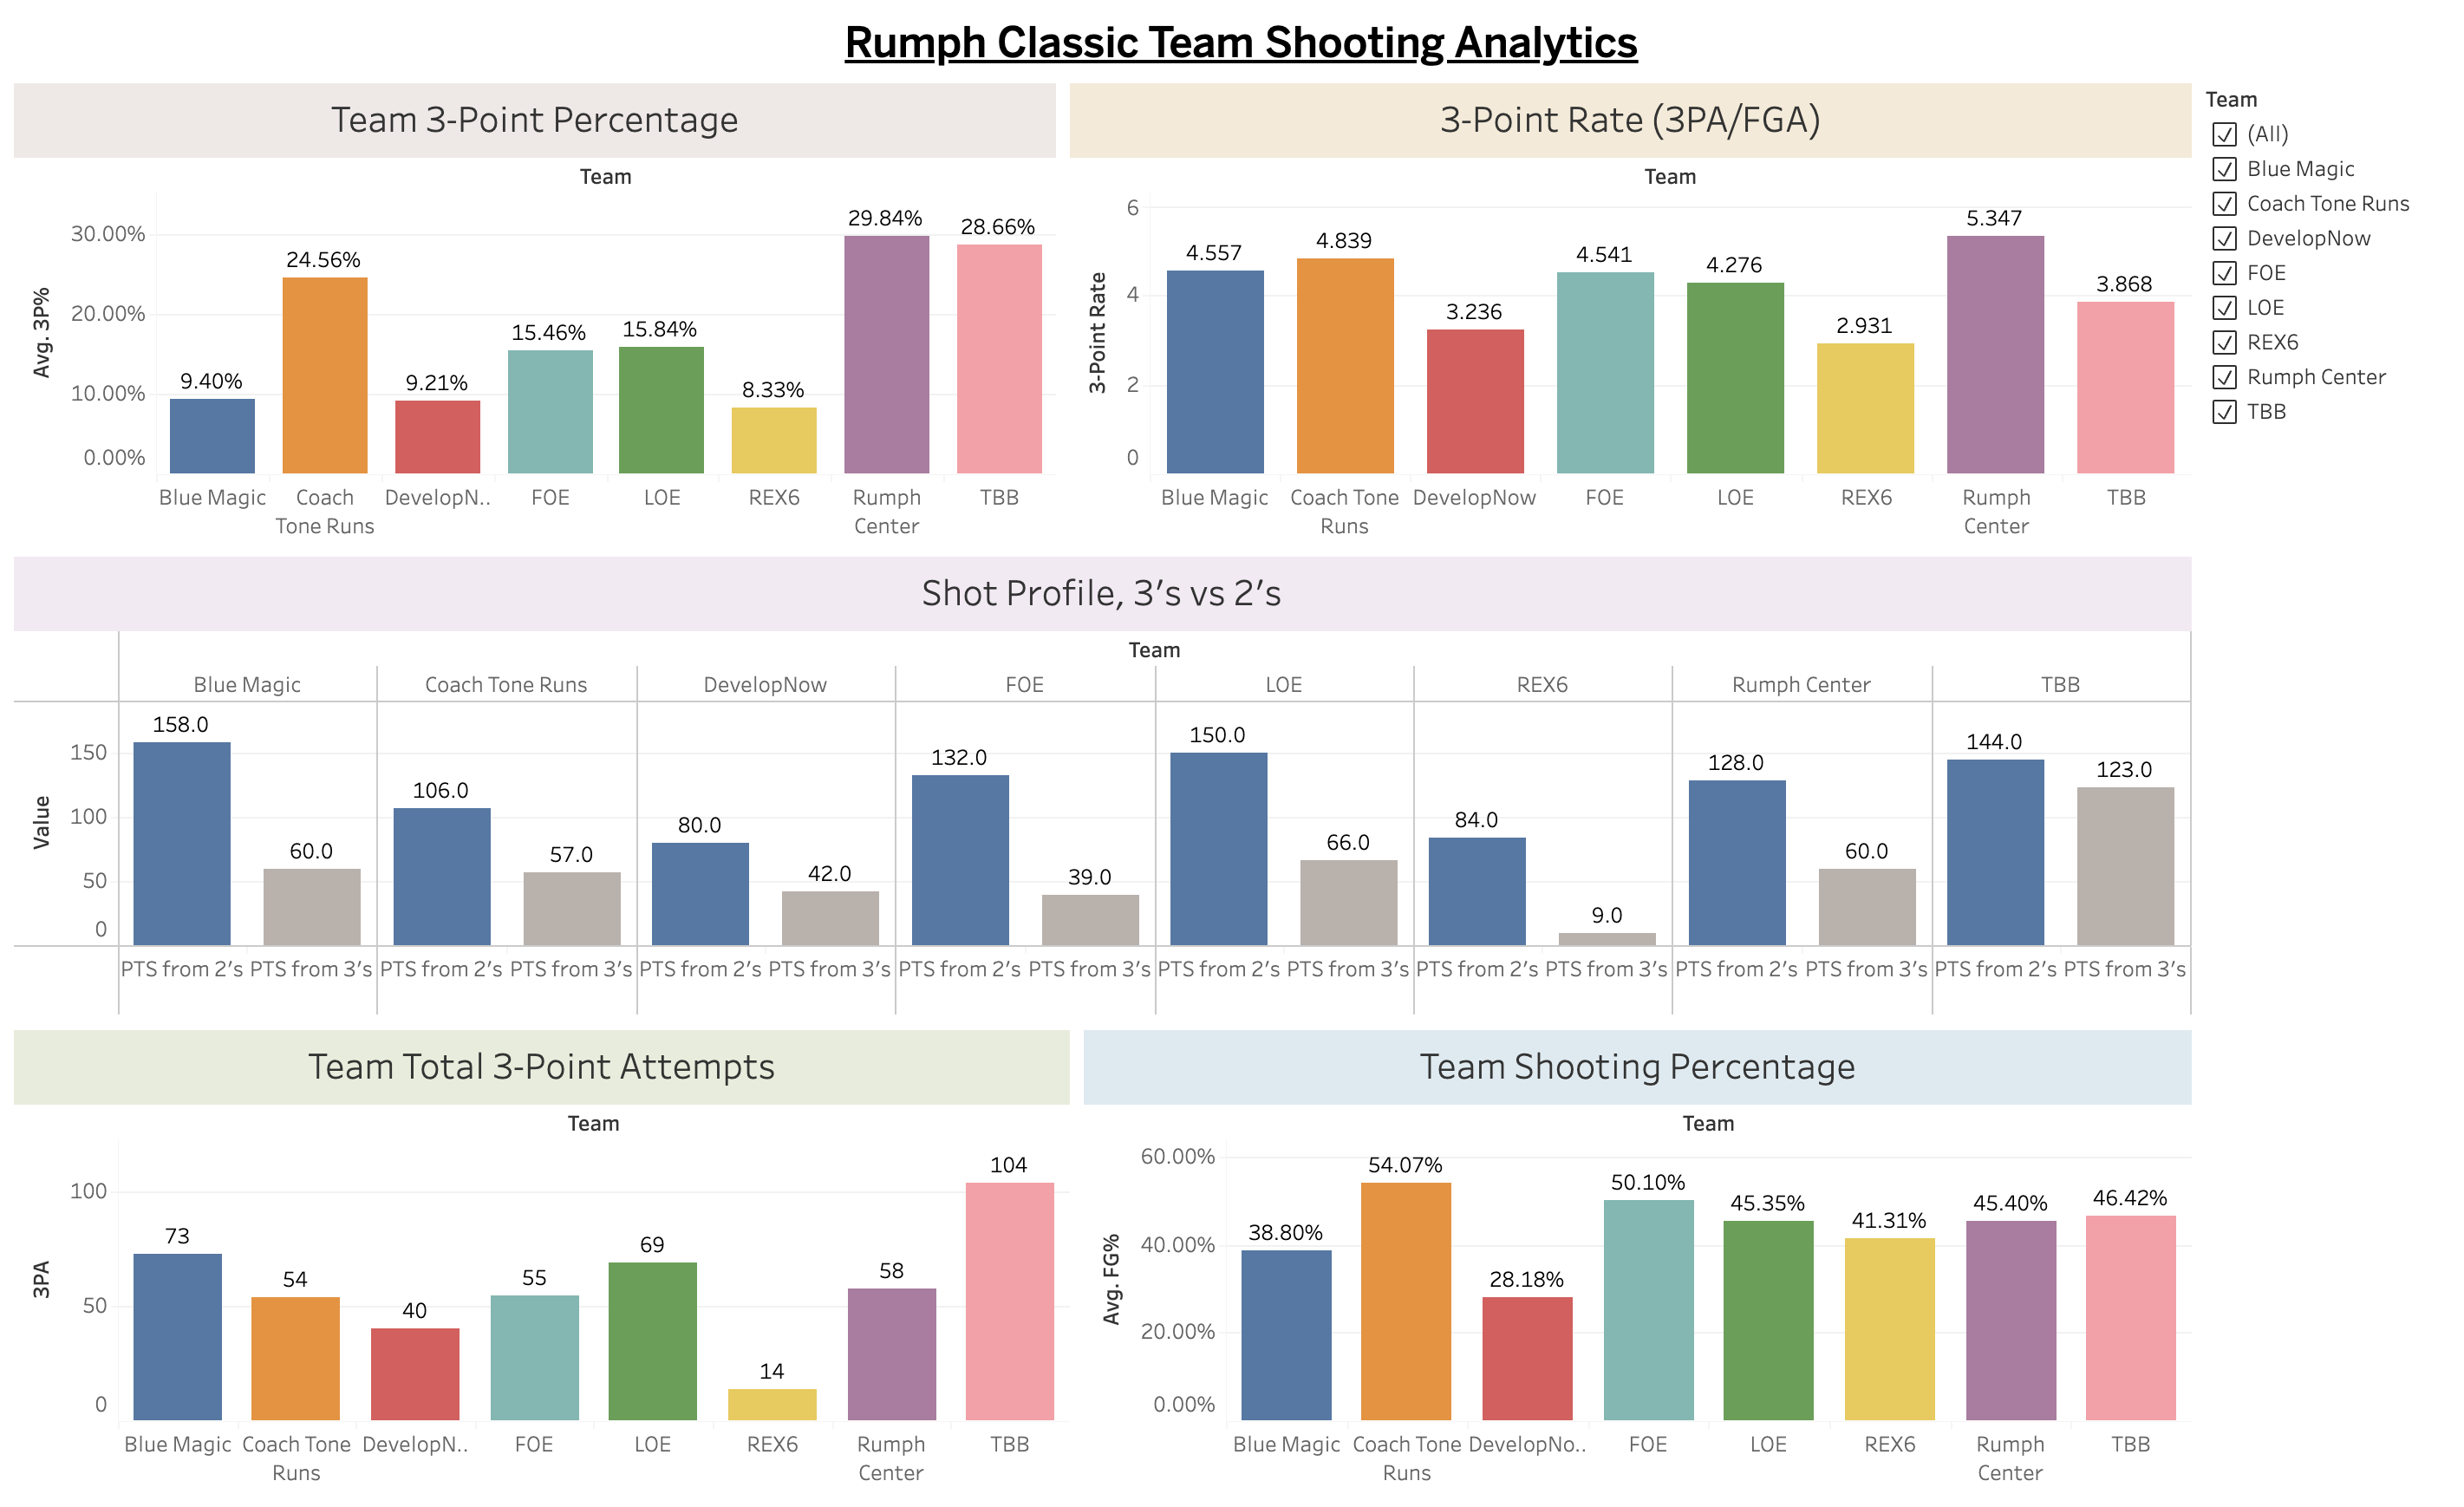

Layout of this report page (visuals, bound fields, positions):
{"tool":"tableau","page":{"name":"Rumph Classic Team Shooting Analytics","canvas":[1000,1000],"units":"permille","ordinal":0},"visuals":[{"type":"title","box":[5.7,11.8,988.7,54.4]},{"type":"worksheet","title":"3-Point Percentage","mark":"Automatic","rows":["3P%"],"cols":["TEAM"],"box":[5.7,66.2,421.5,307.2]},{"type":"worksheet","title":"3-Point Rate","mark":"Automatic","rows":["Calculation_0548306305687553"],"cols":["TEAM"],"box":[427.2,66.2,454,307.2]},{"type":"filter","title":"3-Point Percentage","param":"[federated.0zr43d30aee5us1fh9irr01gf3w0].[none:TEAM:nk]","box":[881.2,66.2,113.2,298.5]},{"type":"worksheet","title":"Shot Profile","mark":"Automatic","cols":["TEAM"],"box":[5.7,373.4,875.5,307.4]},{"type":"worksheet","title":"Team Total 3-Point Attempts","mark":"Automatic","rows":["3PA"],"cols":["TEAM"],"box":[5.7,680.8,427.3,307.5]},{"type":"worksheet","title":"Team Shooting Percentage","mark":"Automatic","rows":["FG%"],"cols":["TEAM"],"box":[433,680.8,448.2,307.5]}]}

Visuals, with their boxes on the dashboard's canvas, which has no fixed pixel size, in thousandths of its width and height (x1, y1, x2, y2). These are canvas units, not pixel positions in the 2464x1507 screenshot, which may show the page scaled, cropped or inside an application window:
title: region(6, 12, 994, 66)
"3-Point Percentage" worksheet: region(6, 66, 427, 373)
"3-Point Rate" worksheet: region(427, 66, 881, 373)
"3-Point Percentage" filter: region(881, 66, 994, 365)
"Shot Profile" worksheet: region(6, 373, 881, 681)
"Team Total 3-Point Attempts" worksheet: region(6, 681, 433, 988)
"Team Shooting Percentage" worksheet: region(433, 681, 881, 988)
